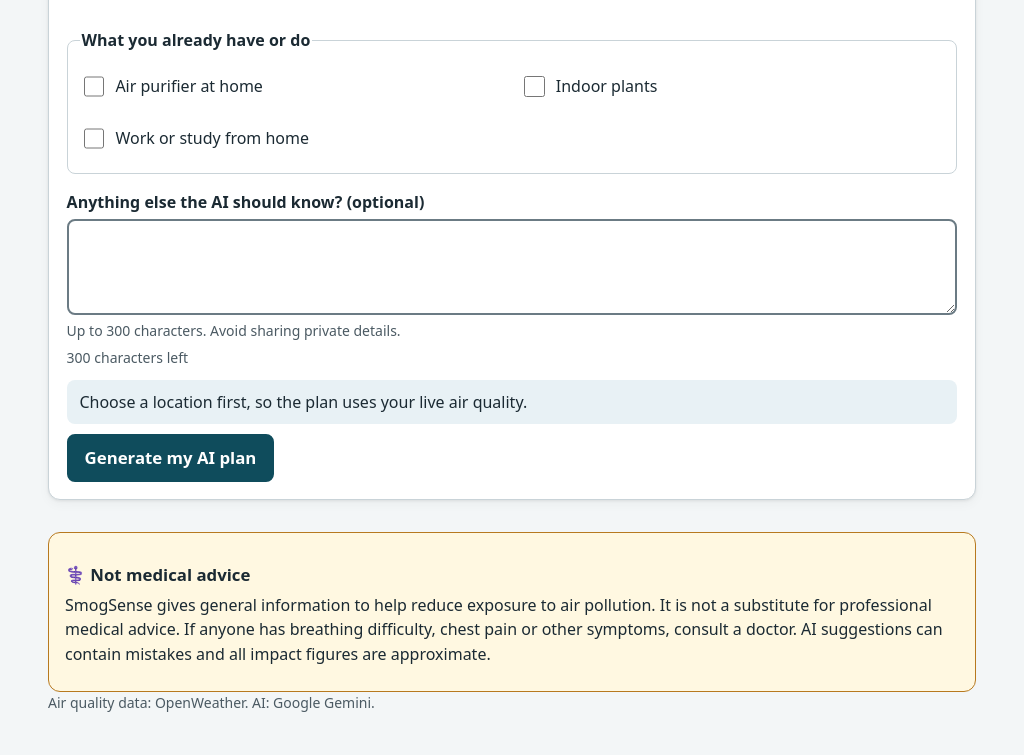
it: App › asks for a location before generating a plan and focuses the city input
The image size is (1024, 755).
(page scrolled)
Click the button "Generate my AI plan" at {"x": 170, "y": 458}, box [67, 434, 274, 482]
(page scrolled)
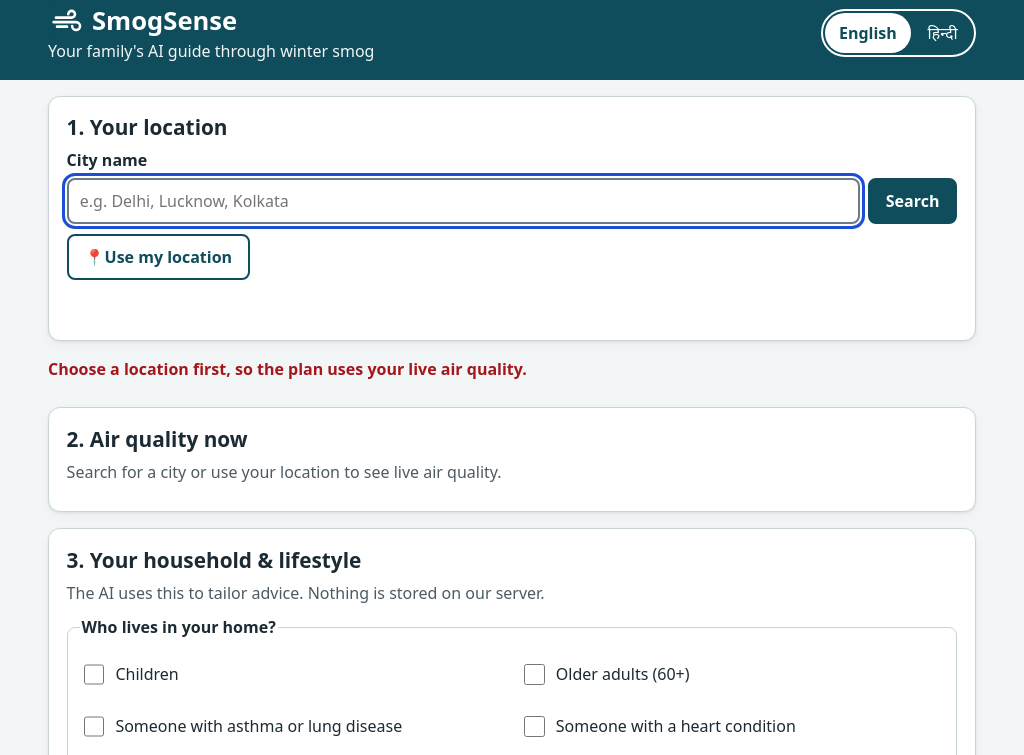
Check: the message "Choose a location first, so the plan uses your live air quality." is shown, box [48, 358, 527, 380]
